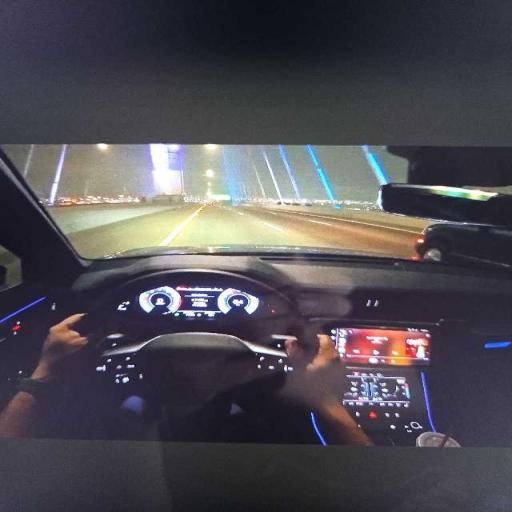car: (0, 161, 511, 445), (416, 223, 511, 266)
lane: (68, 204, 417, 258), (248, 209, 418, 258), (68, 204, 198, 258), (169, 205, 315, 246)
person: (281, 335, 371, 445)
